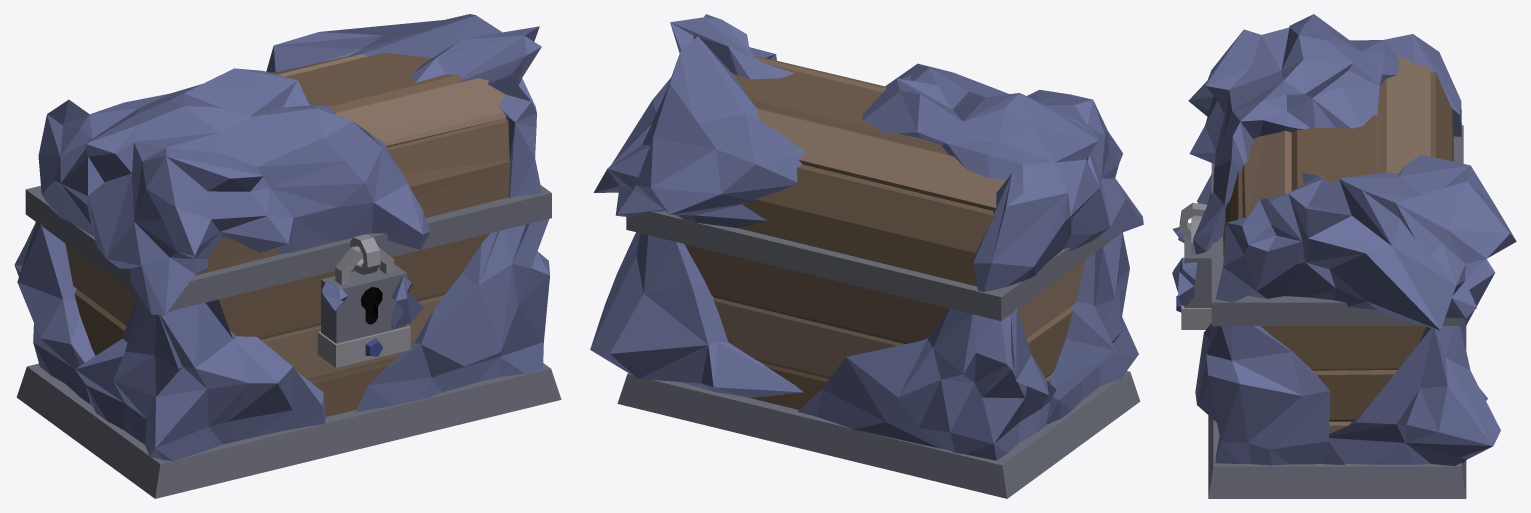
Rendered from _trunk_8.fbx.
The picture shows the model from 3 angles, left to right: view 1: azimuth 30°, elevation 25°; view 2: azimuth 150°, elevation 25°; view 3: azimuth 270°, elevation 25°; orthographic projection. The views are drawn at different scales.
Visible parts, largest first — view 1: trunK_8; view 2: trunK_8; view 3: trunK_8.
Boxes of the visible parts, x1,y1,x2,y2 form: trunK_8: [14, 14, 561, 498]; trunK_8: [590, 14, 1143, 498]; trunK_8: [1172, 14, 1516, 498].
Size of the model in its own units: 115 by 78.64 by 78.03.
Materials: 1 (1 with a texture image).
